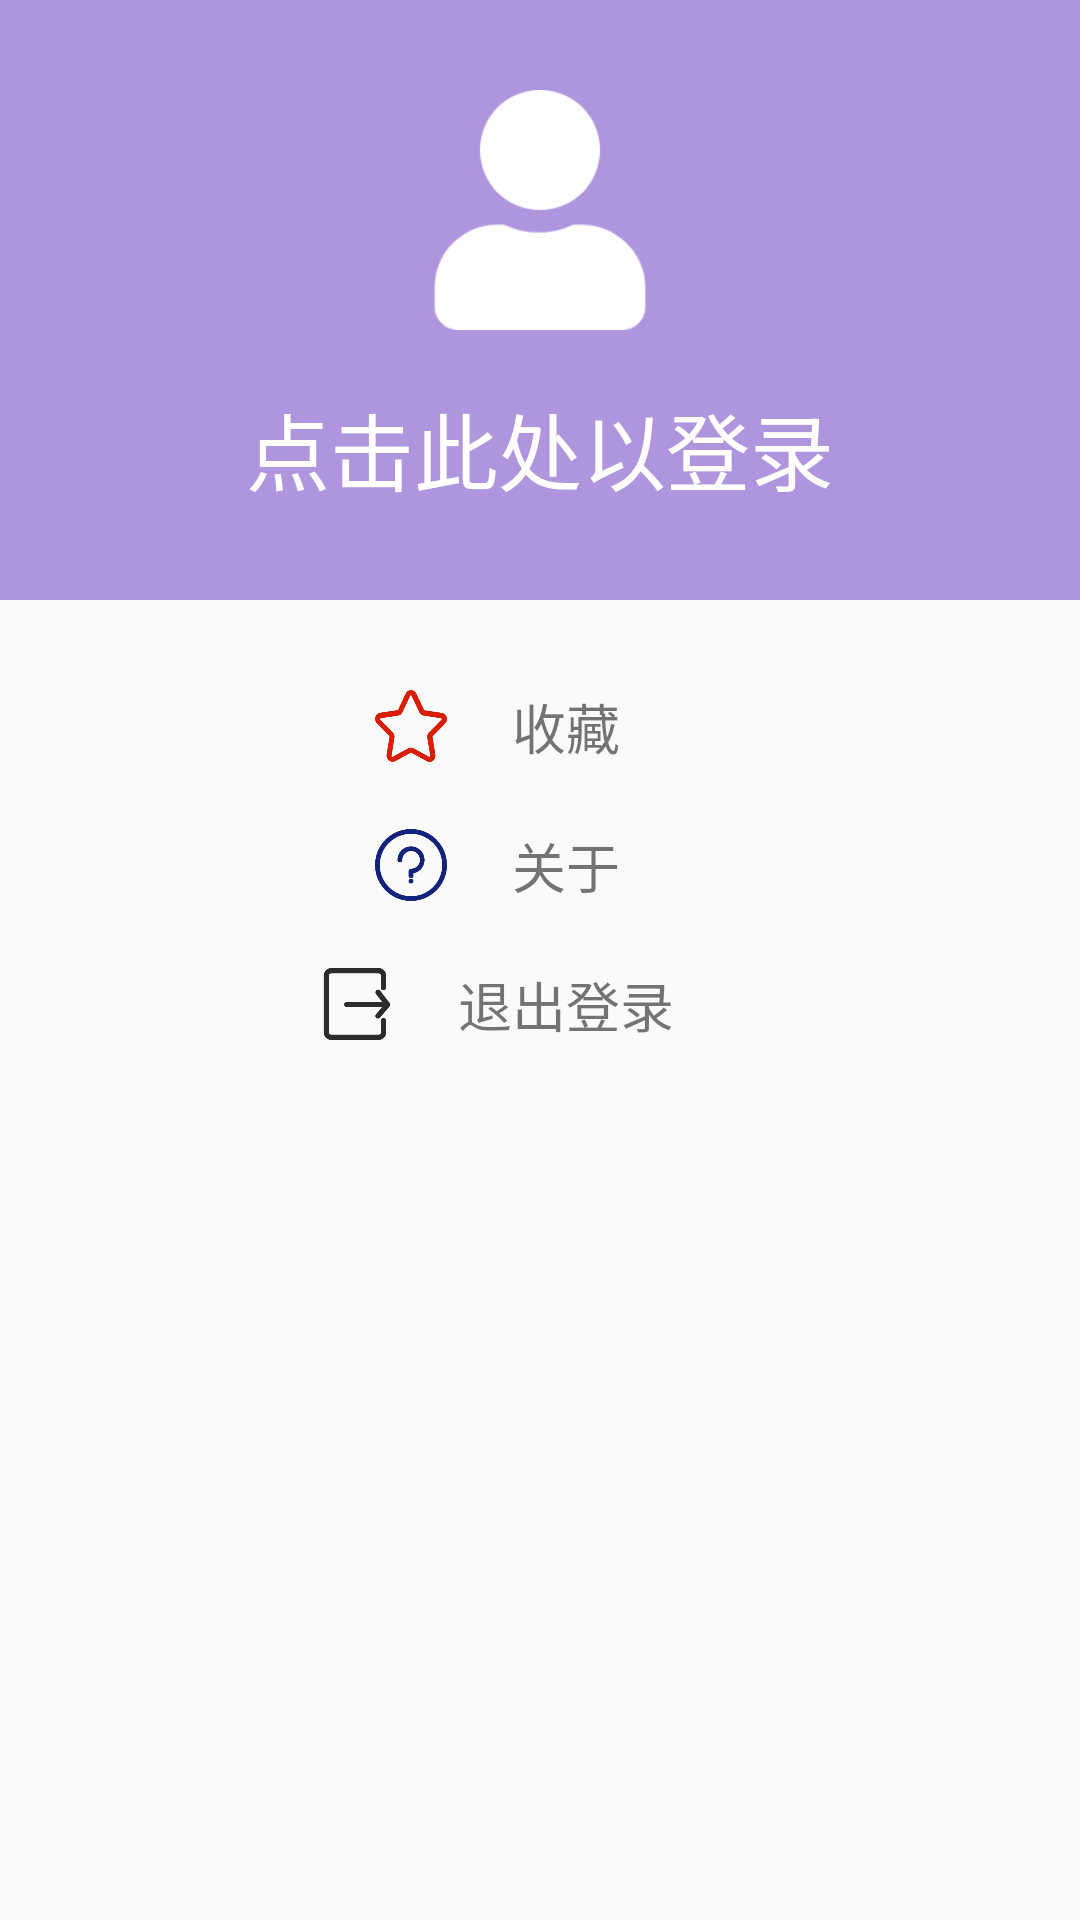

Icon click points for this 1080px x 1920px phone screenshot, format point (x, y):
about: point (411, 865)
collect: point (411, 726)
login out: point (357, 1004)
me picture: point (540, 210)
